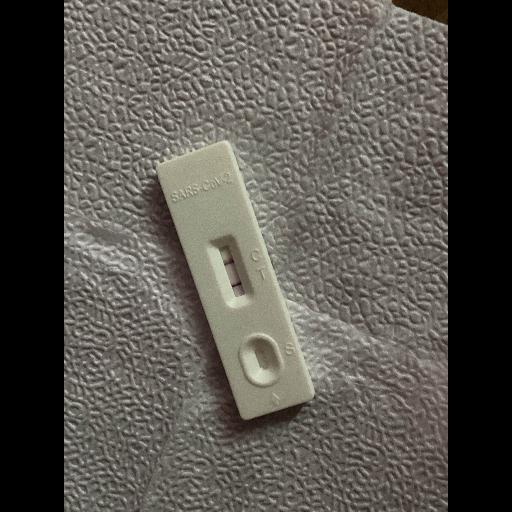Pos: (155, 138, 319, 425)
